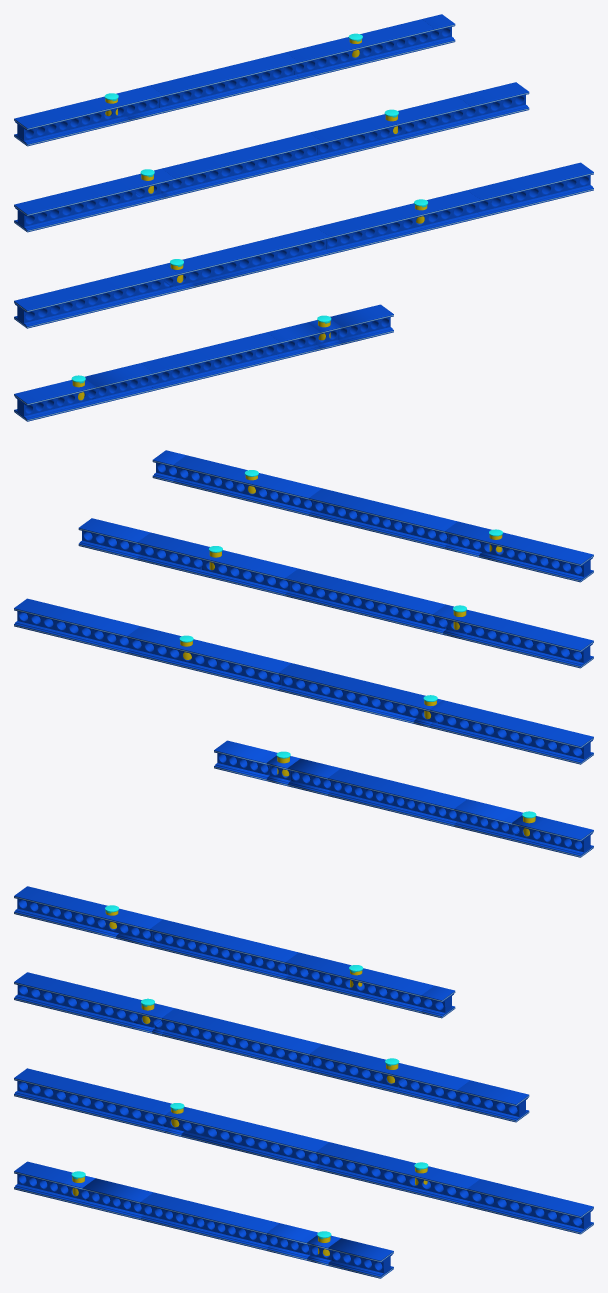
The model's file is Floor4_cut.fbx.
The picture shows the model from 3 angles, top to bottom: view 1: azimuth 30°, elevation 25°; view 2: azimuth 150°, elevation 25°; view 3: azimuth 330°, elevation 25°; orthographic projection.
Visible parts, largest first — view 1: Cube_001.002, Cube_002.002, Cube_003.002, Cube_006.002, Cube_002.001, Cube_002, Cube_001, Cube_003, Cube_006.001, Cube_006, Cube_003.001; view 2: Cube_001.002, Cube_002.002, Cube_003.002, Cube_006.002, Cube_002.001, Cube_002, Cube_001, Cube_006.001, Cube_006, Cube_003, Cube_003.001; view 3: Cube_001.002, Cube_002.002, Cube_003.002, Cube_006.002, Cube_001.001, Cube_003.001, Cube_001, Cube_006, Cube_006.001, Cube_002, Cube_002.001, Cube_003.
Part boxes in pixels (<box>): Cube_001.002: <box>14,162,593,328</box>; Cube_002.002: <box>14,82,529,232</box>; Cube_003.002: <box>14,14,455,146</box>; Cube_006.002: <box>14,304,393,421</box>; Cube_002.001: <box>375,114,409,144</box>; Cube_002: <box>131,173,164,203</box>; Cube_001: <box>160,262,194,292</box>; Cube_003: <box>95,96,128,126</box>; Cube_006.001: <box>307,320,341,350</box>; Cube_006: <box>62,380,95,409</box>; Cube_003.001: <box>339,36,373,66</box>; Cube_001.002: <box>14,598,593,764</box>; Cube_002.002: <box>78,518,593,668</box>; Cube_003.002: <box>152,450,593,582</box>; Cube_006.002: <box>214,740,593,857</box>; Cube_002.001: <box>198,550,232,580</box>; Cube_002: <box>443,609,476,639</box>; Cube_001: <box>413,698,447,728</box>; Cube_006.001: <box>266,756,300,786</box>; Cube_006: <box>512,815,545,845</box>; Cube_003: <box>479,532,512,562</box>; Cube_003.001: <box>234,472,268,502</box>; Cube_001.002: <box>14,1068,593,1234</box>; Cube_002.002: <box>14,972,529,1122</box>; Cube_003.002: <box>14,886,455,1018</box>; Cube_006.002: <box>14,1161,393,1278</box>; Cube_001.001: <box>404,1166,437,1196</box>; Cube_003.001: <box>338,968,372,998</box>; Cube_001: <box>160,1106,193,1136</box>; Cube_006: <box>61,1175,95,1205</box>; Cube_006.001: <box>307,1235,340,1265</box>; Cube_002: <box>130,1003,164,1033</box>; Cube_002.001: <box>374,1062,408,1092</box>; Cube_003: <box>94,908,128,938</box>.
Bounding box in the file's own units: 5980 × 3009 × 242.
